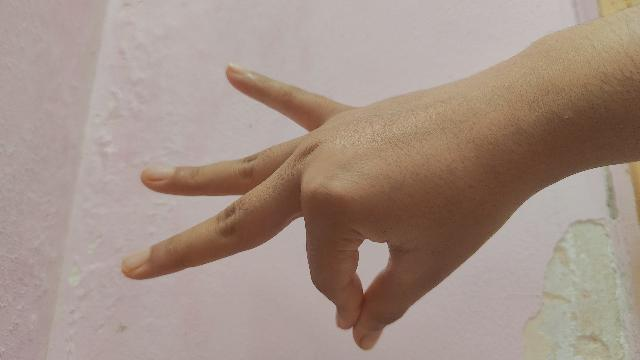hansaasya: (118, 5, 640, 352)
